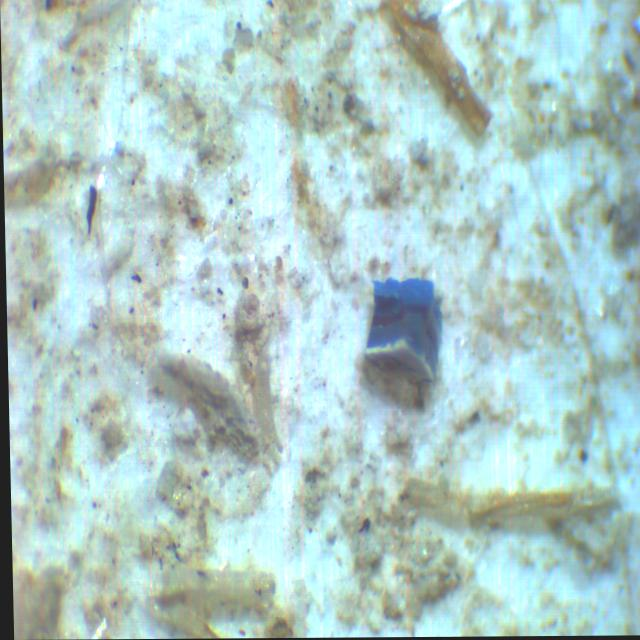microplastic: (363, 276, 443, 386)
